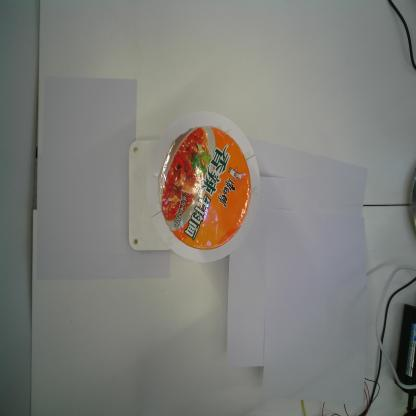Instant Noodles: (155, 123, 254, 254)
